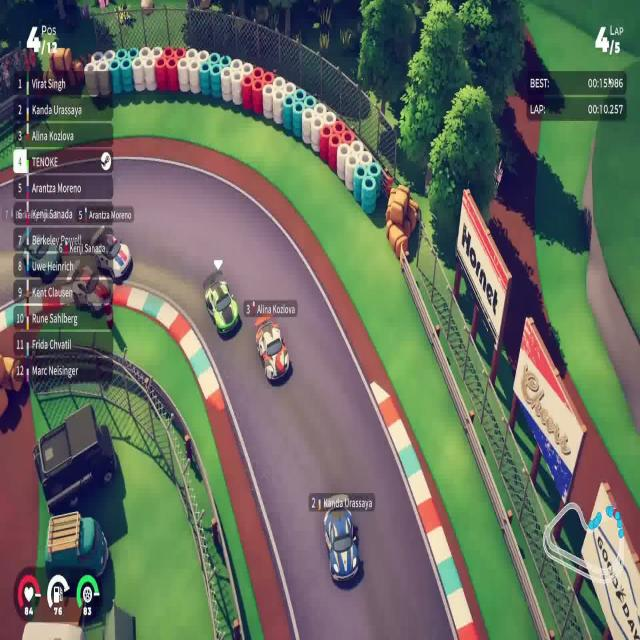car: (322, 503, 360, 584), (254, 317, 290, 383), (204, 277, 240, 338)
